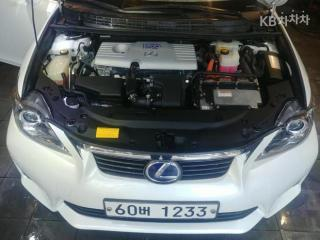0: (126, 204, 139, 216)
1: (161, 206, 170, 218)
2: (172, 205, 184, 218)
3: (197, 206, 208, 218), (185, 205, 195, 218)
6: (115, 203, 126, 216)
버: (138, 205, 152, 217)
